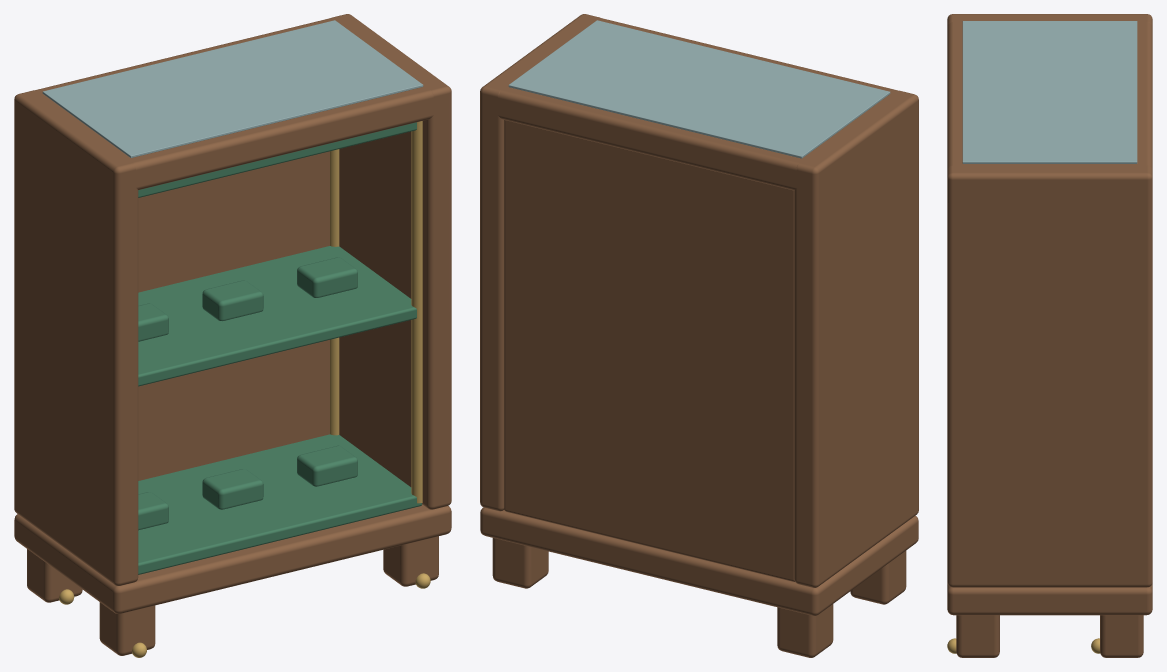
The model's file is clockmaker-and-watch-repair-glass-watch-case-f23e7c45__30634.glb.
3 views of the same model, side by side, from view 1: azimuth 30°, elevation 25°; view 2: azimuth 150°, elevation 25°; view 3: azimuth 270°, elevation 25° (orthographic).
Visible parts, largest first — view 1: glass-watch-case; view 2: glass-watch-case; view 3: glass-watch-case.
Part boxes in pixels (bbox=[...]): glass-watch-case: bbox=[14, 14, 451, 657]; glass-watch-case: bbox=[480, 14, 918, 657]; glass-watch-case: bbox=[947, 14, 1152, 657].
Bounding box in the file's own units: 0.75 × 1.06 × 0.4.
